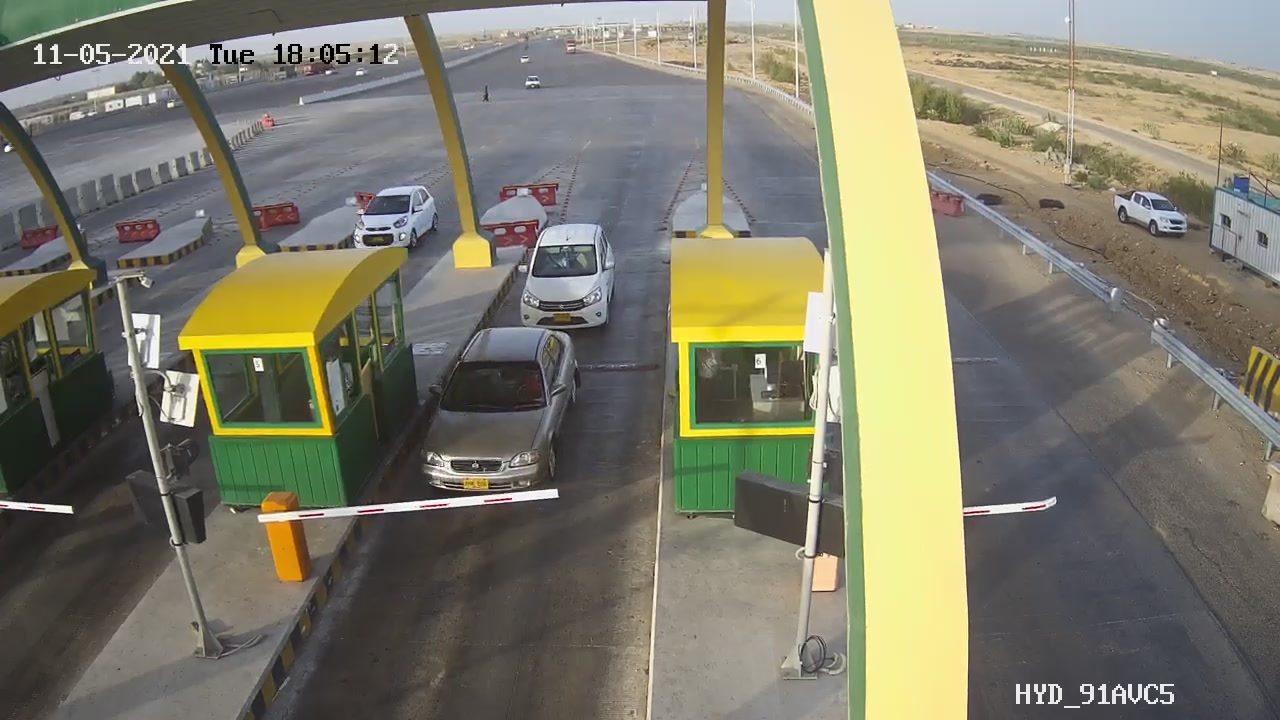F1: (409, 326, 603, 509), (505, 214, 629, 326)
